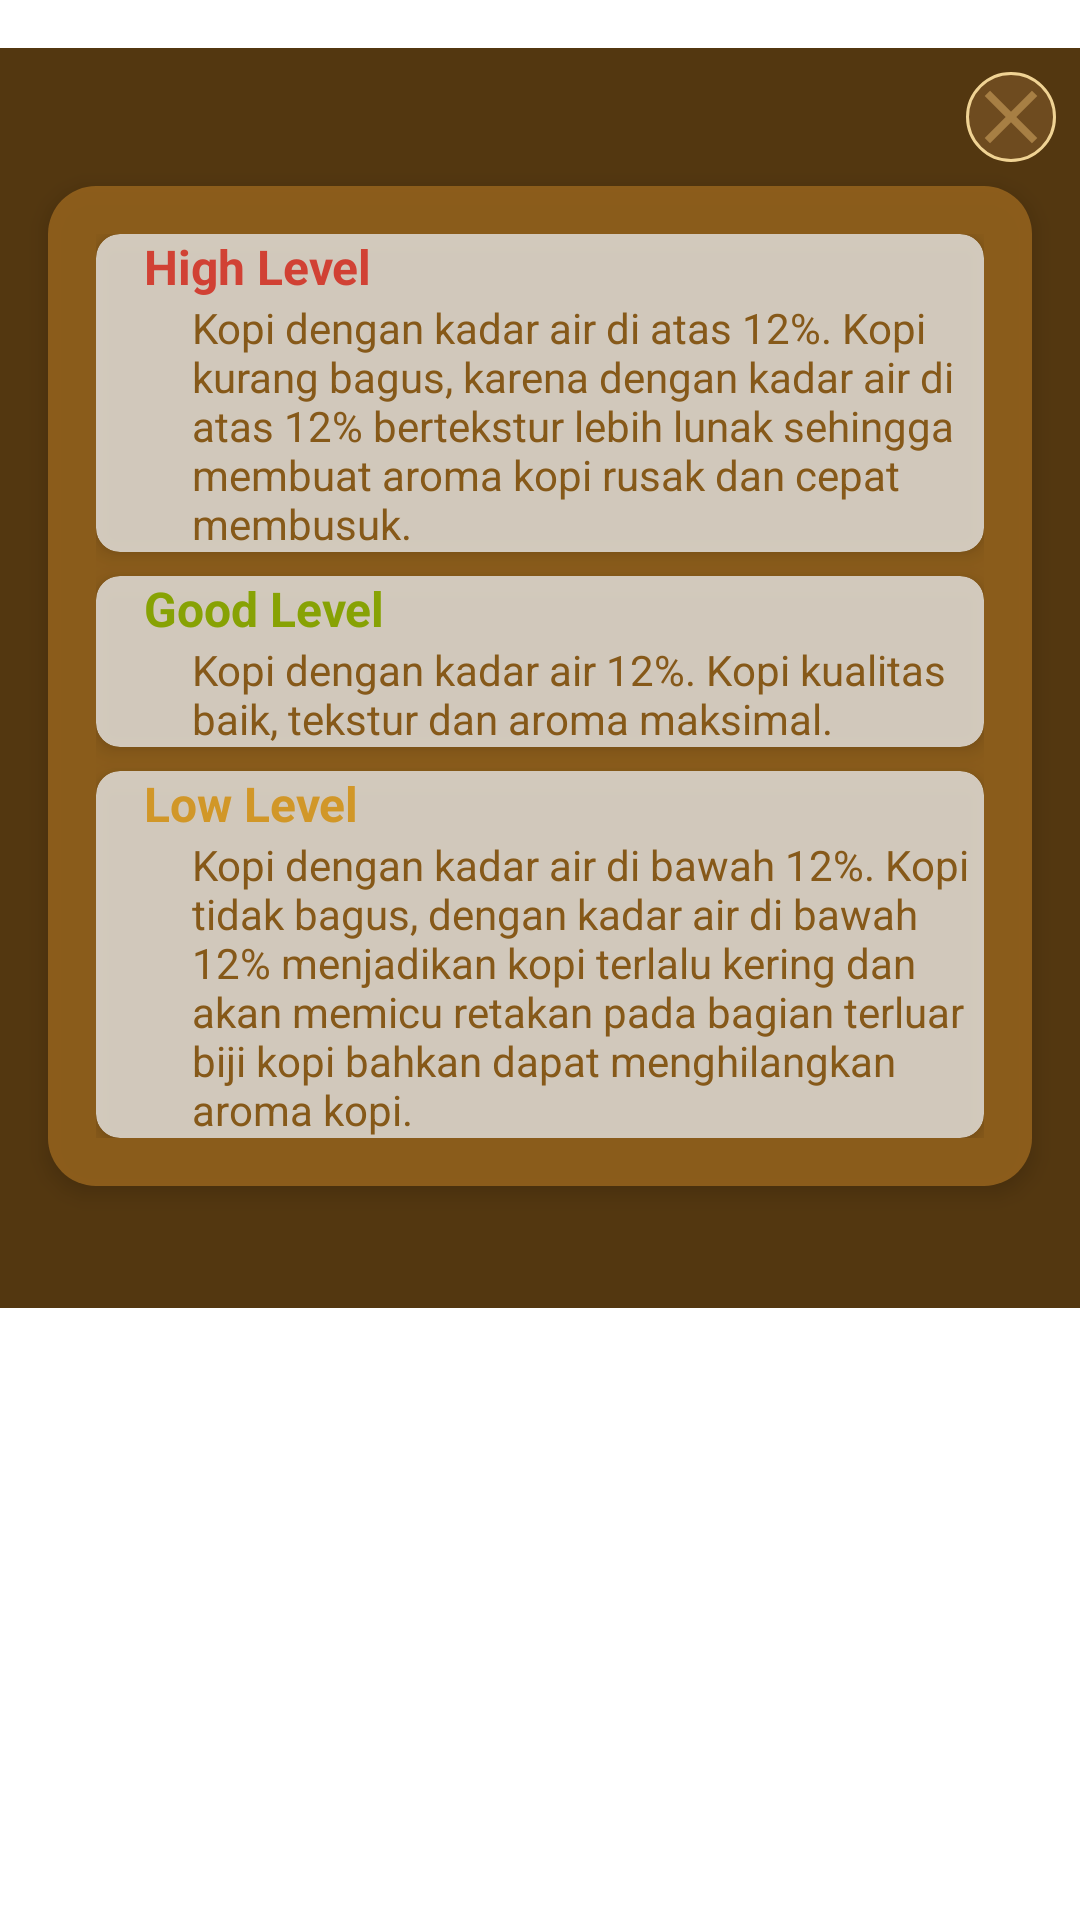

Screen size 1080×1920. Icon name, then its center in pixels as (x,y):
close: (1011,117)
